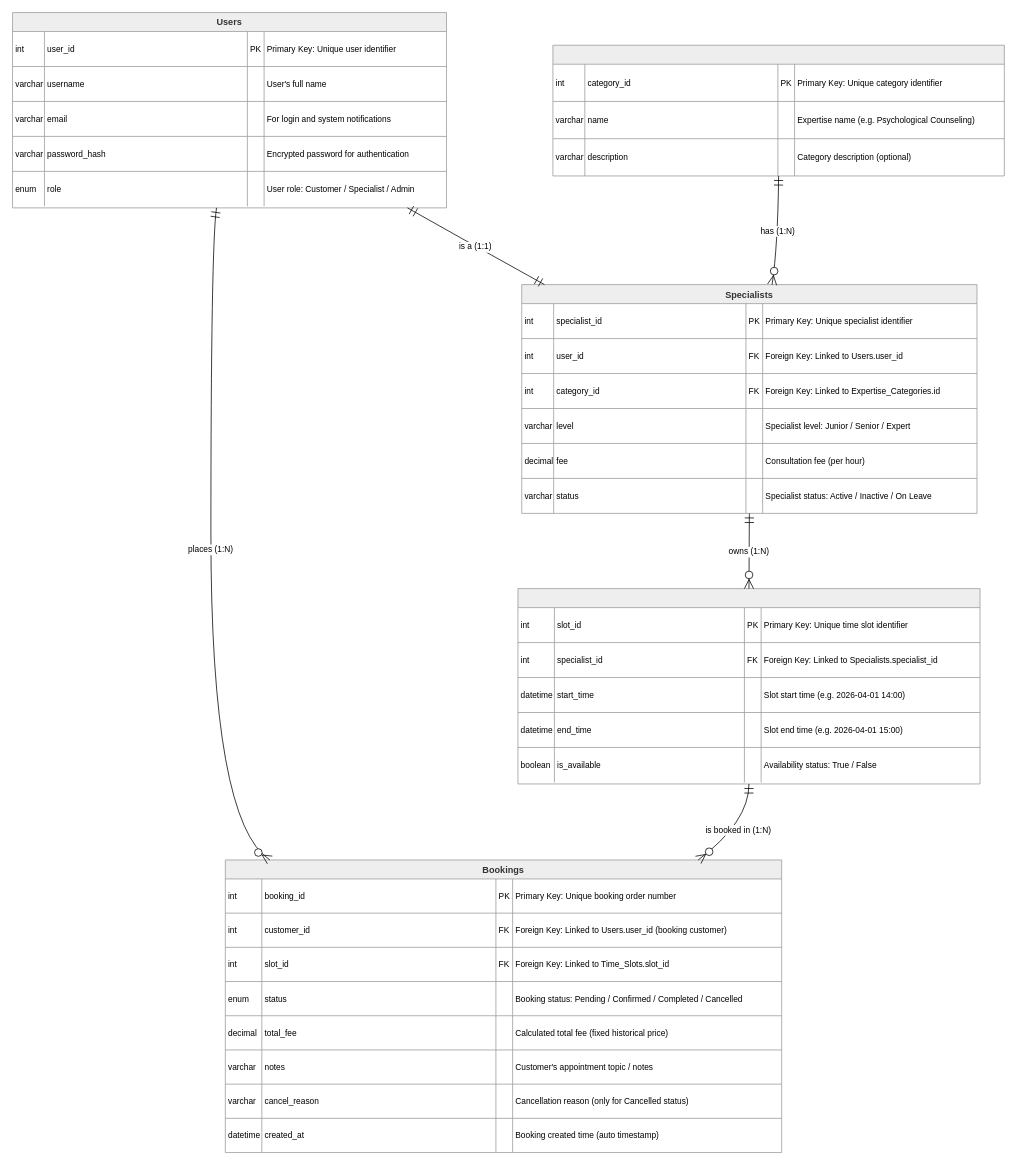
This 1017x1165 diagram has some shape labels left out. The box of each missing label's shape, as (x1, y1, x2, y2) in pixels:
Expertise_Categories: (552, 44, 1004, 176)
Time_Slots: (517, 588, 980, 784)
